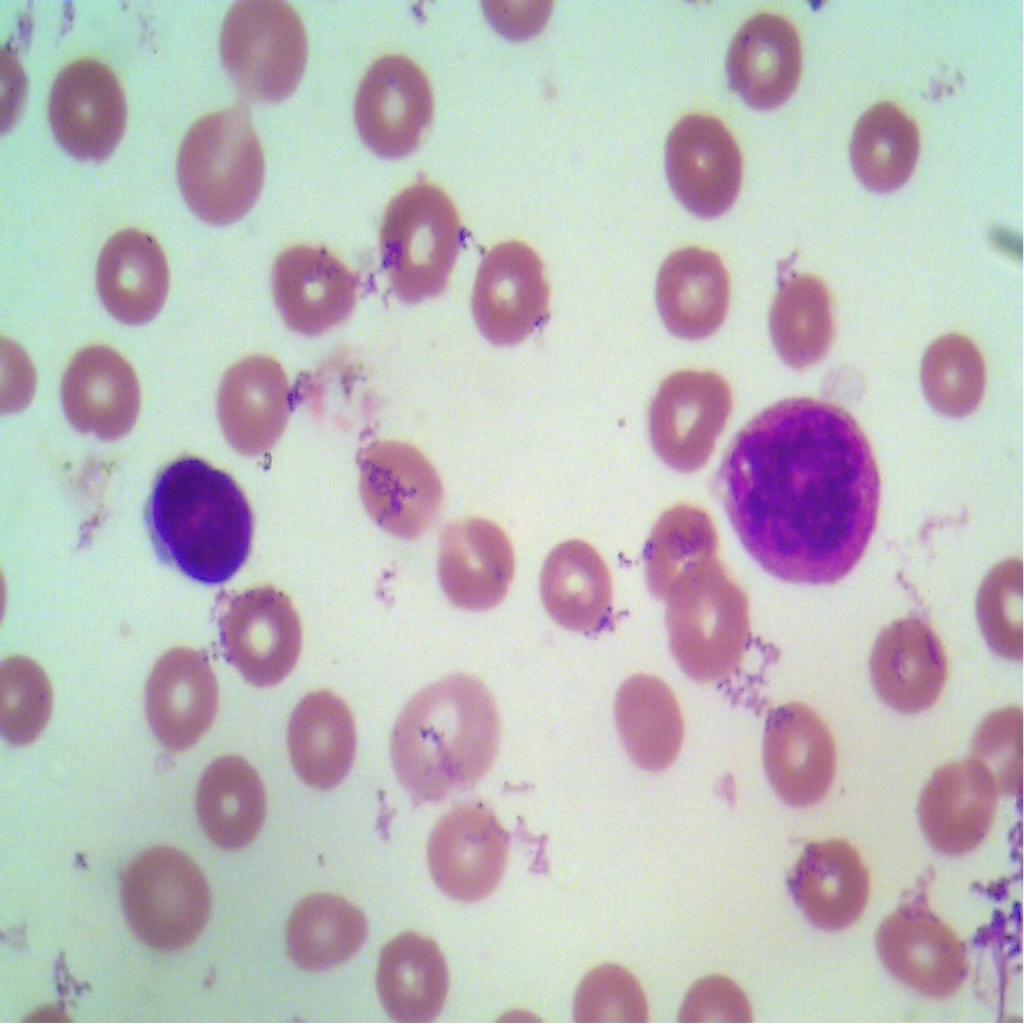Eosinofil: (722, 395, 888, 595)
Eritrosit: (104, 831, 226, 965), (168, 77, 266, 242), (626, 346, 738, 476), (388, 664, 490, 802), (211, 0, 330, 117), (341, 44, 444, 174), (258, 221, 363, 344), (746, 692, 843, 824), (401, 788, 510, 902), (869, 885, 970, 1007), (644, 234, 739, 360), (368, 181, 466, 302), (458, 232, 552, 358), (209, 346, 301, 474), (212, 571, 310, 691), (663, 558, 751, 691), (44, 50, 130, 185), (761, 248, 850, 378), (54, 338, 151, 456), (346, 432, 448, 544), (130, 645, 233, 752), (661, 109, 746, 237), (98, 214, 184, 340), (188, 744, 271, 872), (279, 879, 373, 988), (908, 761, 1004, 865), (281, 675, 358, 802), (838, 84, 919, 204), (366, 915, 456, 1023), (724, 4, 809, 114), (795, 828, 878, 935), (539, 531, 614, 649), (441, 514, 519, 627), (873, 614, 958, 717), (916, 324, 990, 434), (616, 666, 686, 778), (644, 511, 718, 604), (963, 542, 1023, 654), (962, 690, 1023, 798), (0, 652, 58, 754)
Limfosit: (135, 455, 253, 591)
